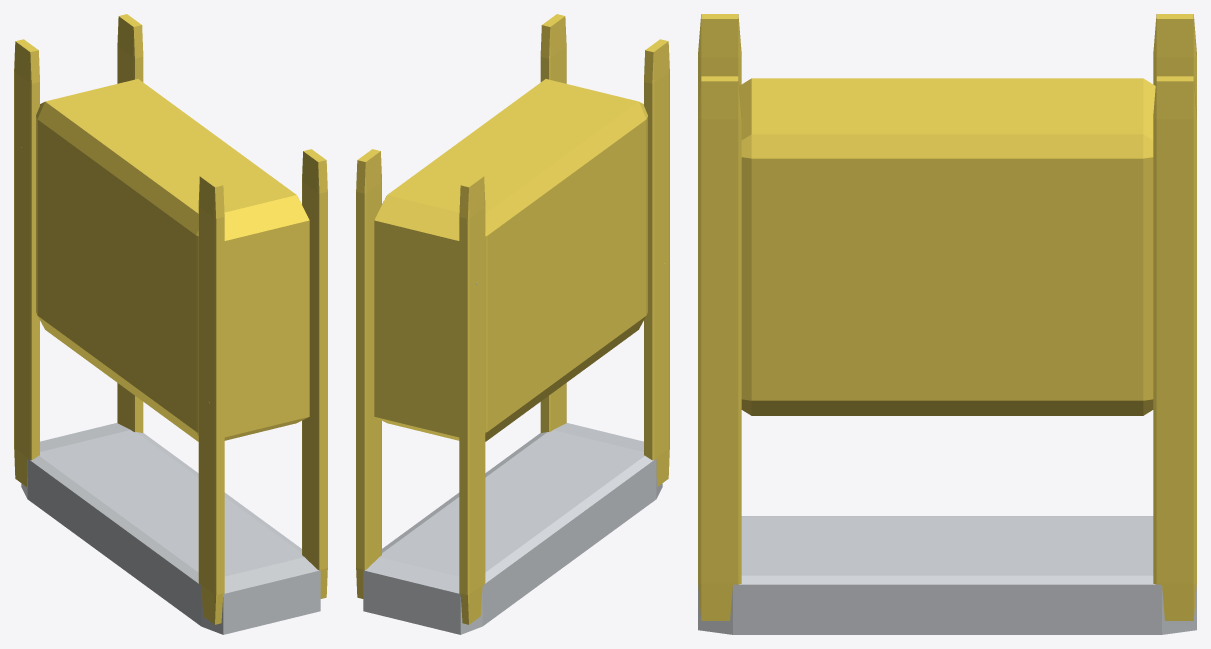
The model's file is b07_hydraulic_trench_shore_assembly.glb.
3 views of the same model, side by side, from view 1: azimuth 30°, elevation 25°; view 2: azimuth 150°, elevation 25°; view 3: azimuth 270°, elevation 25° (orthographic). The views are drawn at different scales.
Parts seen in each view (by area): view 1: b07_hydraulic_trench_shore_assembly; view 2: b07_hydraulic_trench_shore_assembly; view 3: b07_hydraulic_trench_shore_assembly.
Part boxes in pixels (<box>): b07_hydraulic_trench_shore_assembly: <box>14,14,327,634</box>; b07_hydraulic_trench_shore_assembly: <box>356,14,669,634</box>; b07_hydraulic_trench_shore_assembly: <box>698,14,1196,634</box>.
Size of the model in its own units: 0.68 by 2.59 by 2.1.
